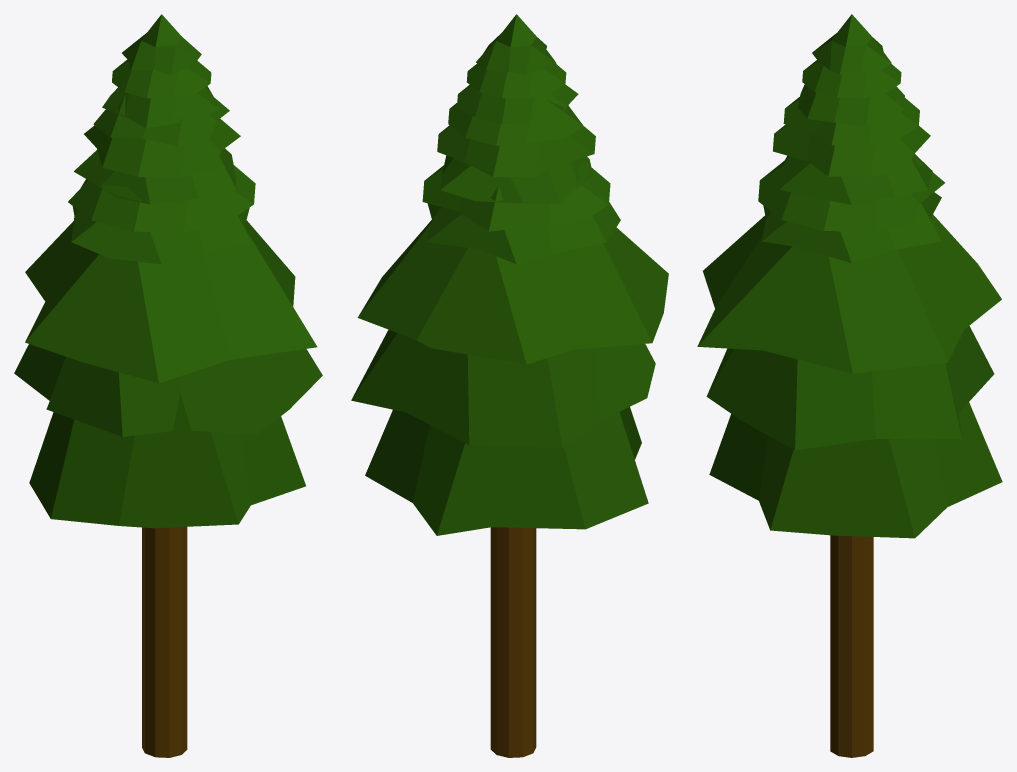
Rendered from treelong.fbx.
3 views of the same model, side by side, from view 1: azimuth 30°, elevation 25°; view 2: azimuth 150°, elevation 25°; view 3: azimuth 270°, elevation 25° (orthographic).
Parts seen in each view (by area): view 1: pDisc13; view 2: pDisc13; view 3: pDisc13.
Boxes of the visible parts, x1,y1,x2,y2 form: pDisc13: [14, 14, 322, 757]; pDisc13: [351, 14, 668, 757]; pDisc13: [697, 14, 1002, 757].
Bounding box in the file's own units: 2.73 × 7.09 × 2.68.
